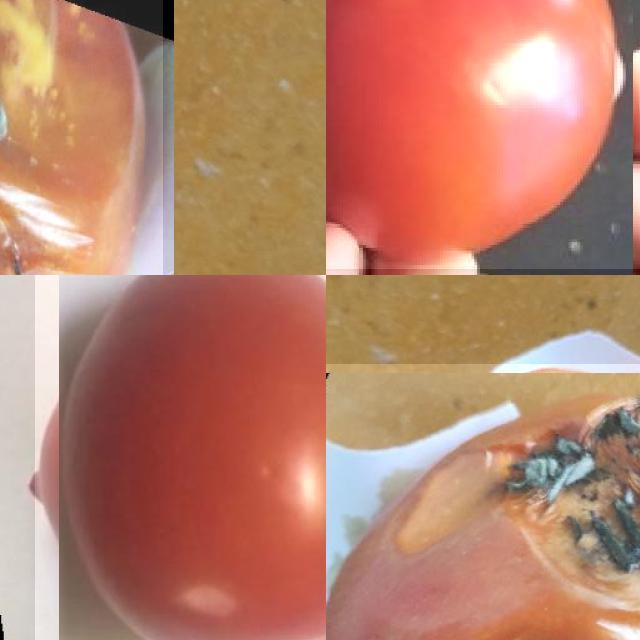Fresh Tomato: (35, 275, 326, 640), (326, 0, 640, 268)
Rotten Tomato: (326, 364, 640, 640), (0, 0, 162, 275)
